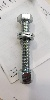FinishedAssembly: (10, 11, 42, 87)
